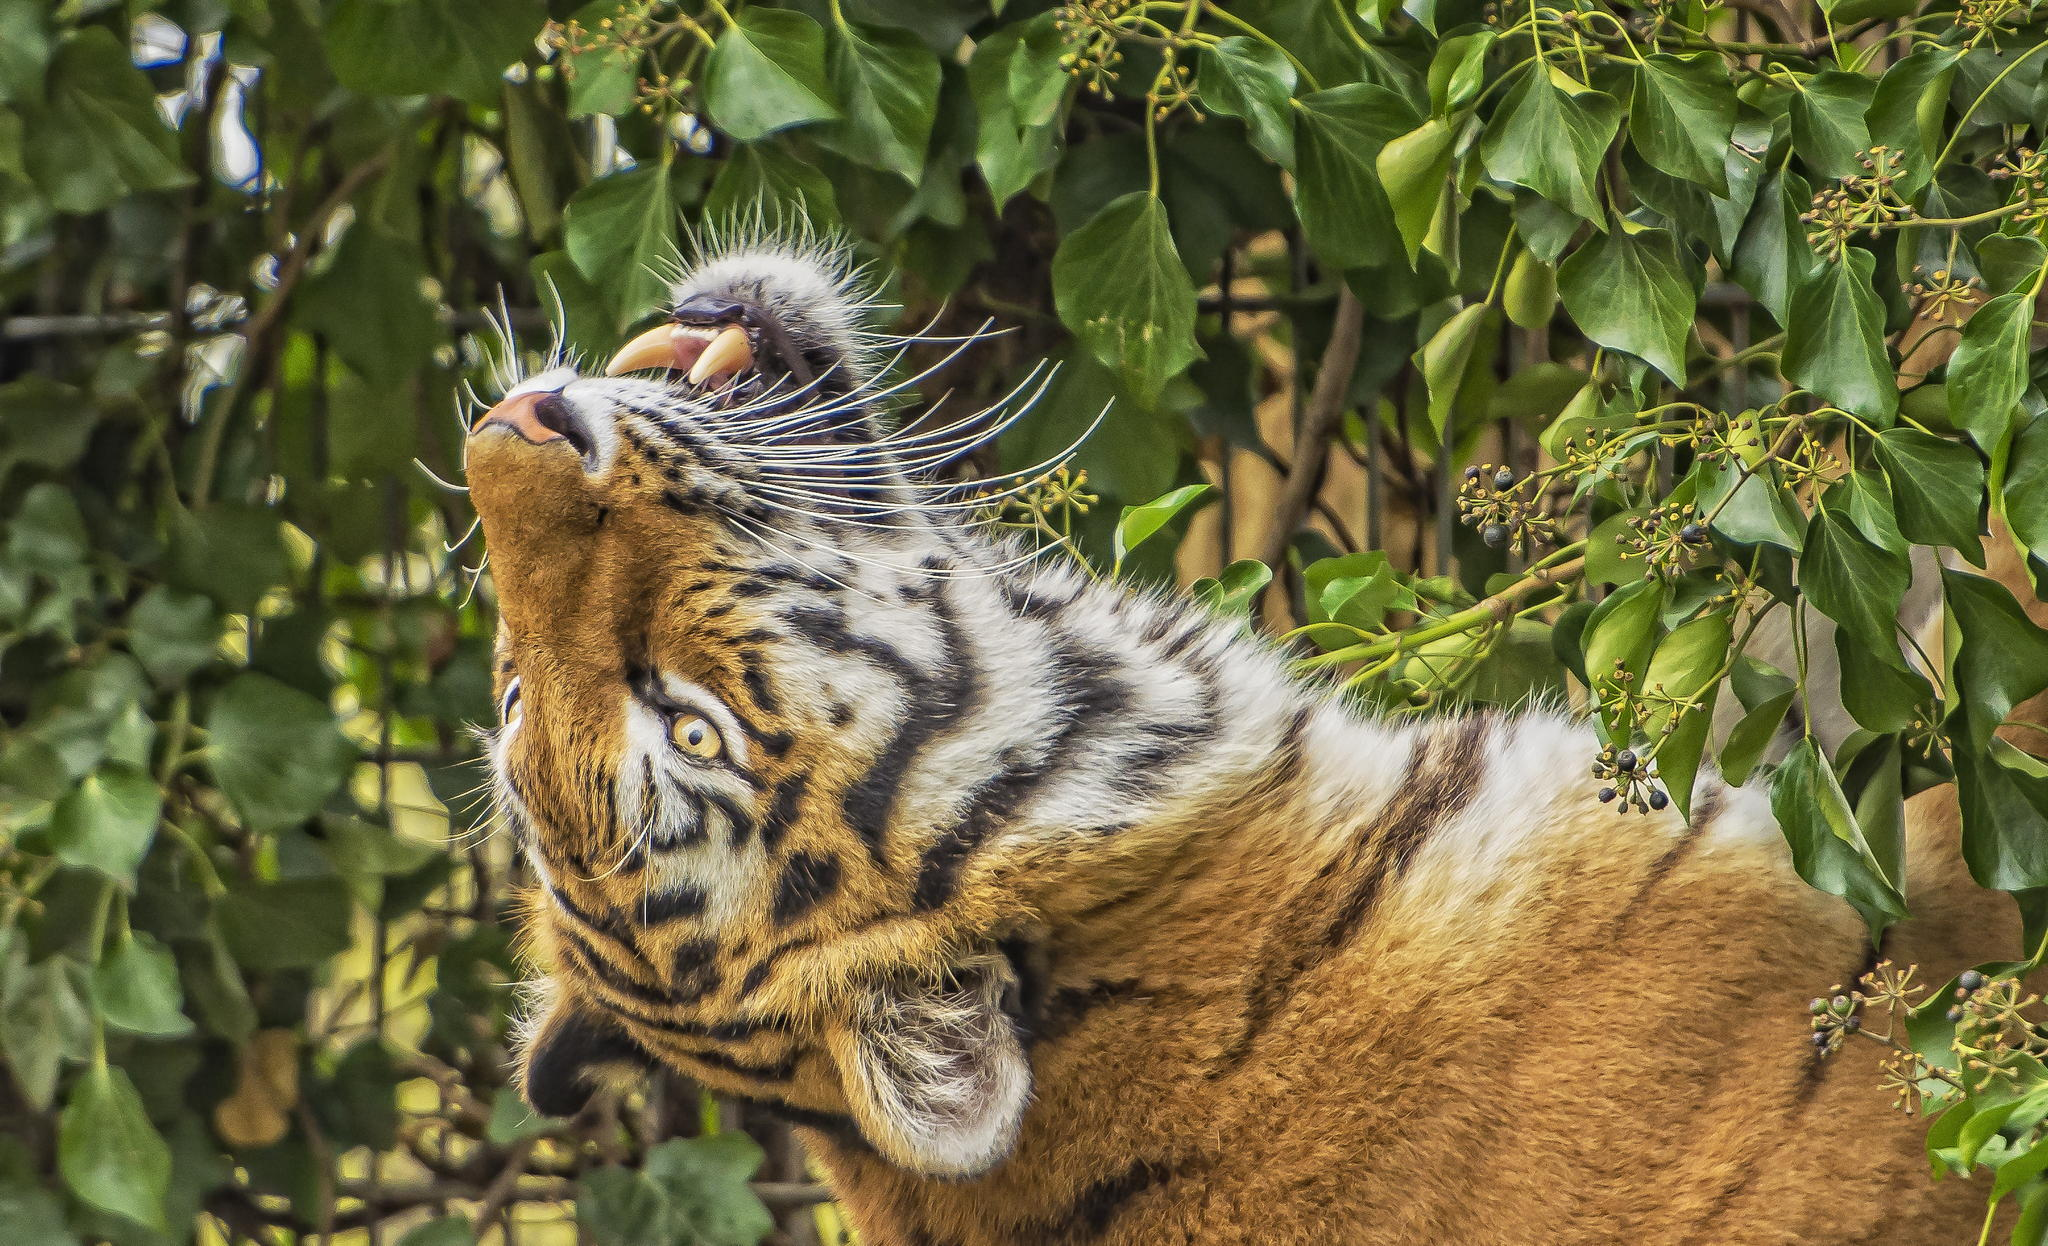tiger: (380, 235, 1924, 1246)
